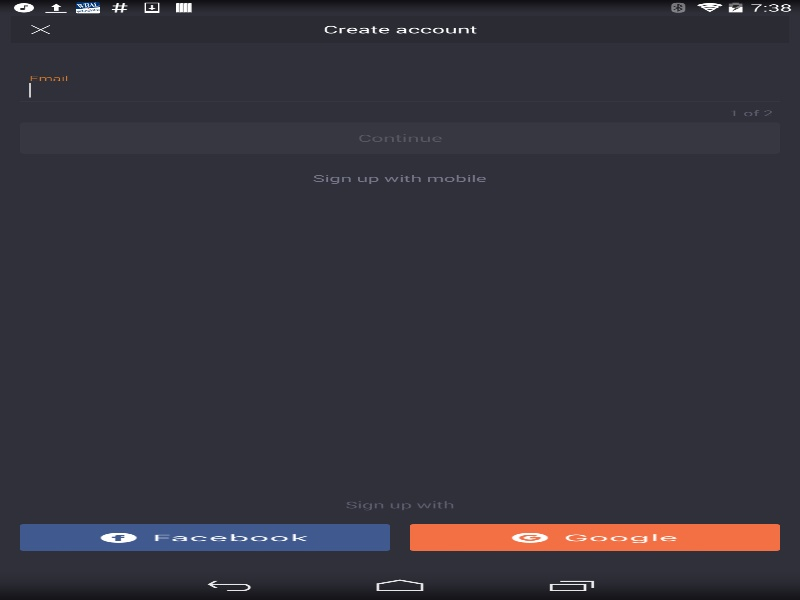Button: (409, 523, 780, 551), (20, 523, 390, 551), (10, 15, 69, 43)
Input: (20, 81, 749, 105)
